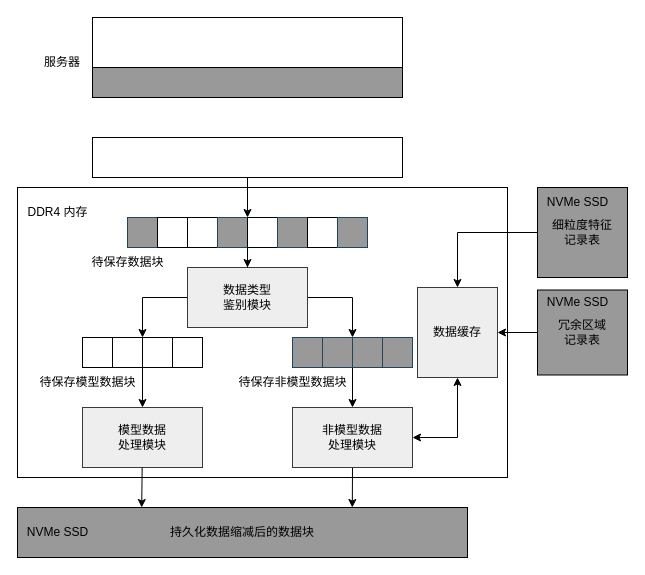
Some shapes in this 645 by 575 pixel diagram are drawn without their labels. Each missing label, with the box of its shape:
Intel(R) Core(TM) i5-8500 CPU CPU软件处理器: (92, 16, 402, 68)
块级数据块去重: (92, 136, 402, 178)
软件系统（一种面向混合负载的存储数据缩减系统）: (92, 66, 402, 98)
